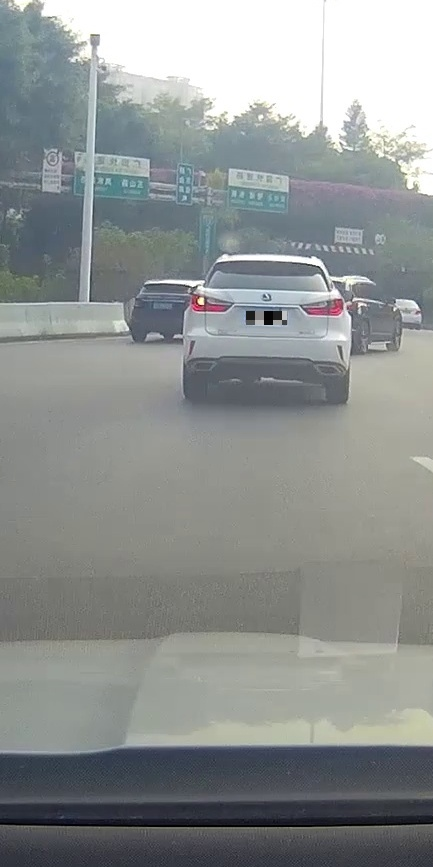L_light: (190, 293, 234, 312)
R_light: (299, 299, 344, 316)
T_light: (258, 262, 279, 267)
day-left: (183, 257, 351, 404)
plate_1: (246, 311, 287, 325)
